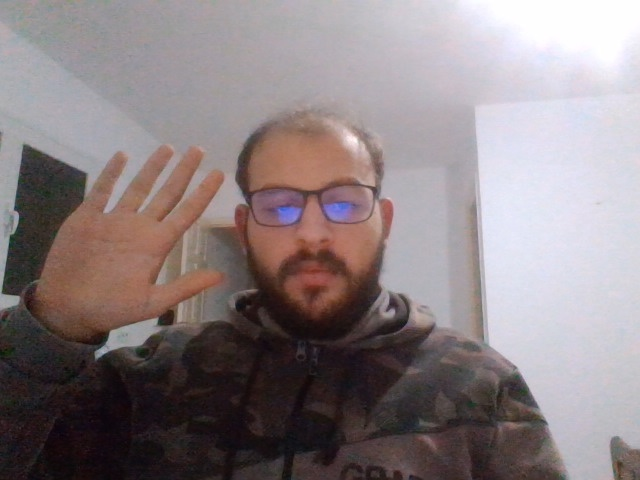Hello: (52, 148, 225, 325)
